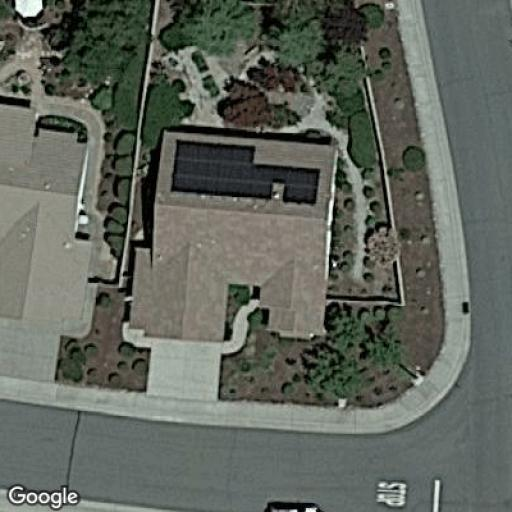solar-panel: (167, 136, 322, 207)
